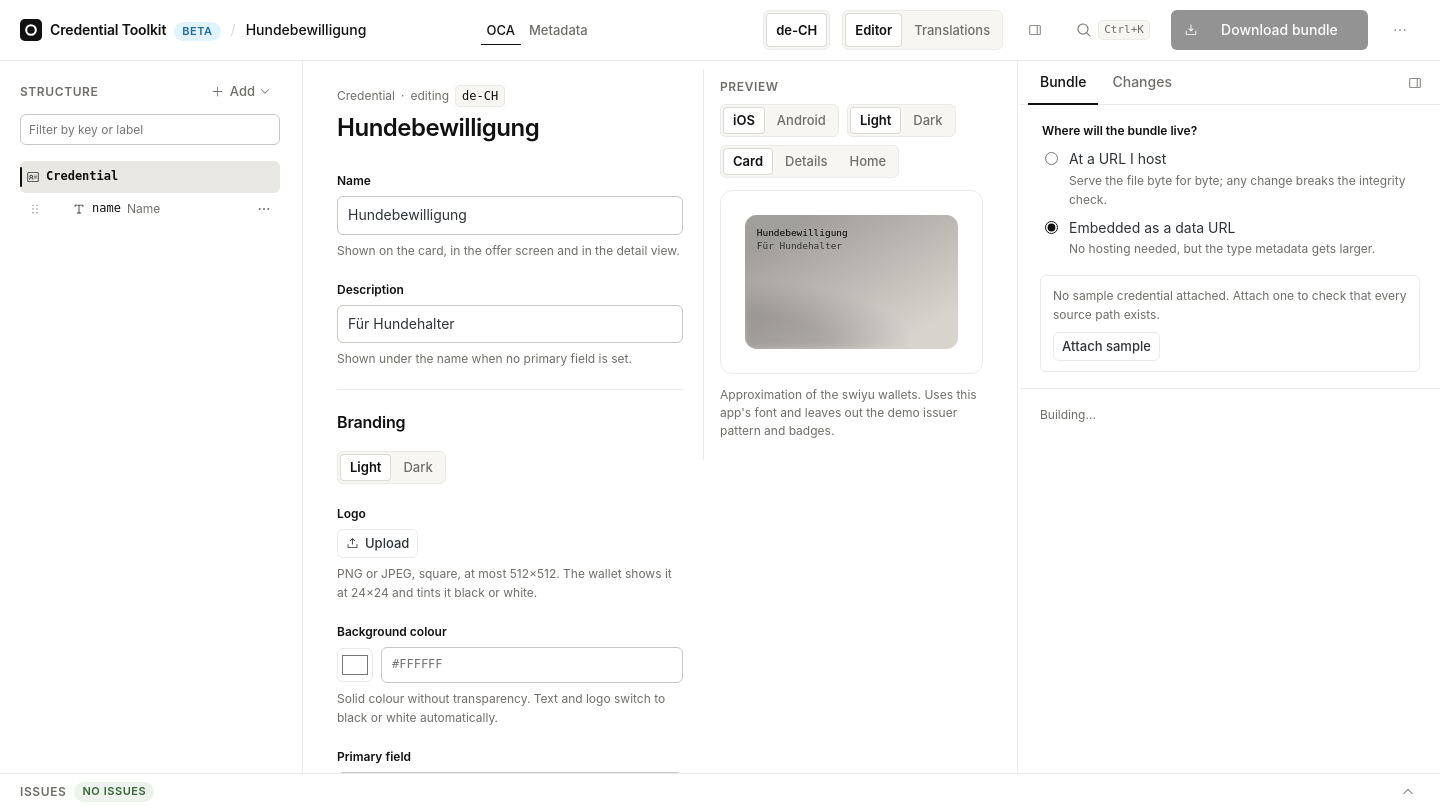
IssuesPanel › says there are no issues when there are none
Expected: the text "No issues" is shown, [74,782,154,802]
Click the button named "Expand issues".
click(1408, 792)  # box [1396,780,1420,804]
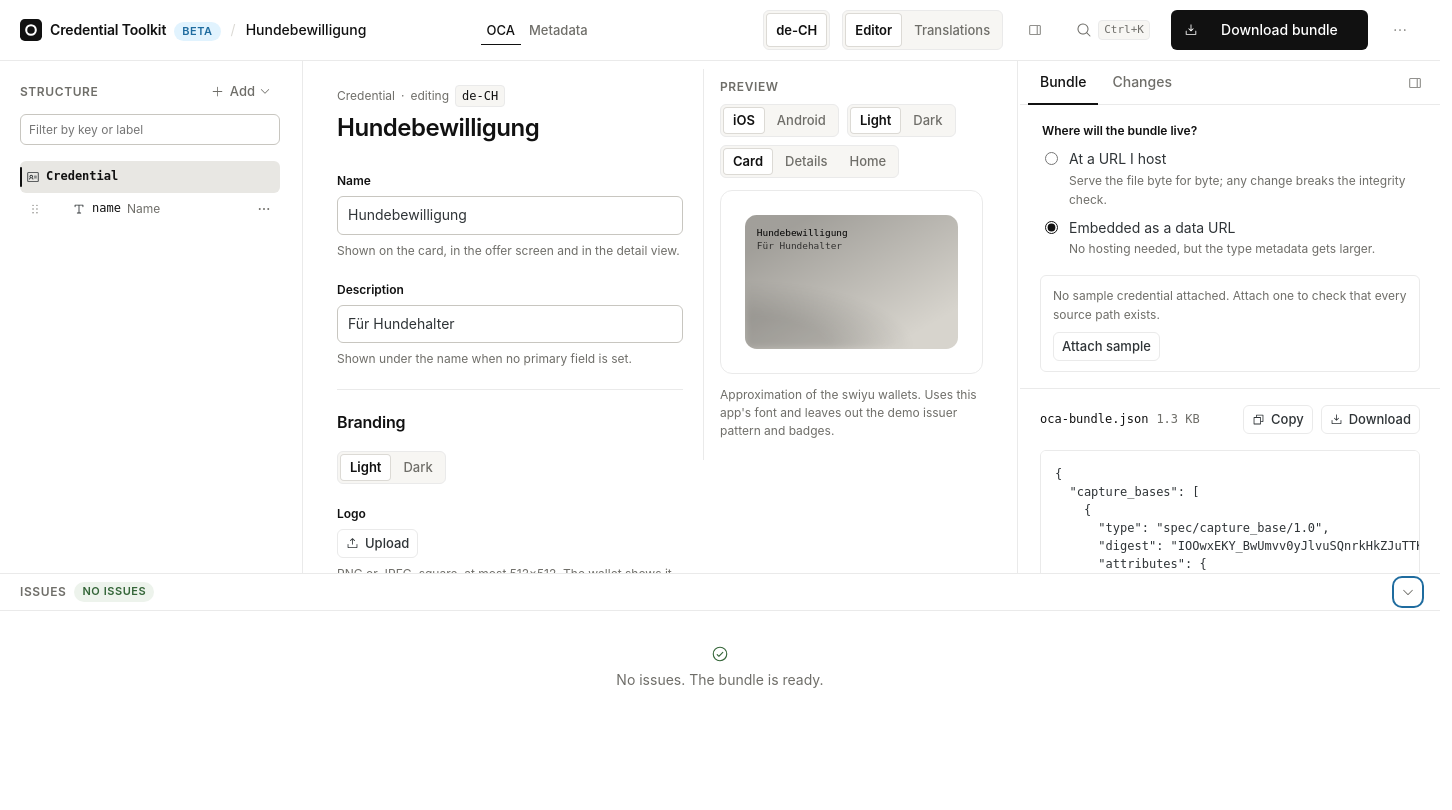
Expected: the text "No issues. The bundle is ready." is shown, [616,645,824,688]
